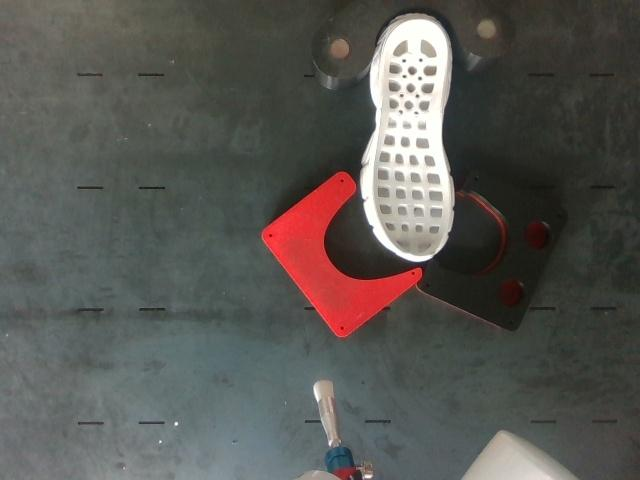shoes: (373, 20, 449, 256)
